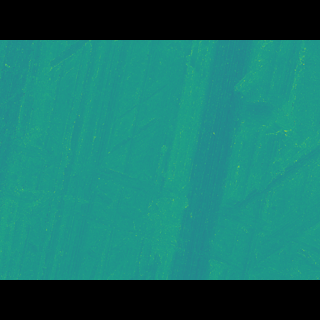Loch: (0, 141, 320, 250), (228, 70, 320, 144)
